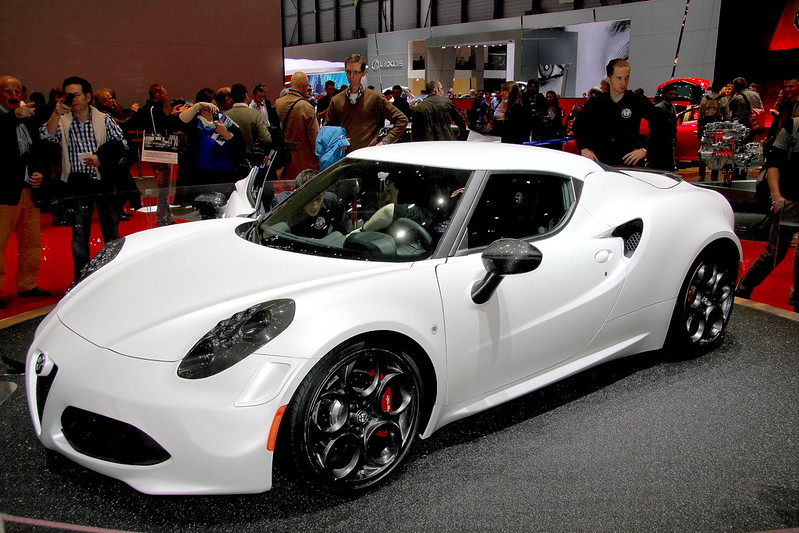car: (27, 143, 749, 509)
